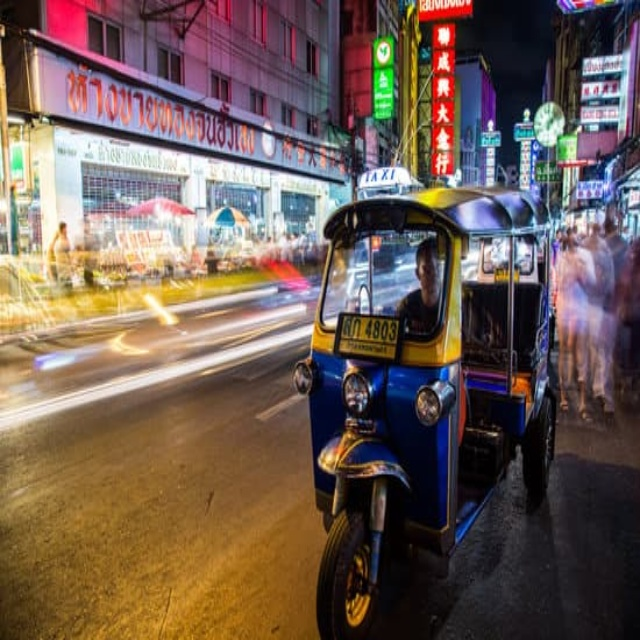Motorcycle: (292, 166, 556, 640)
